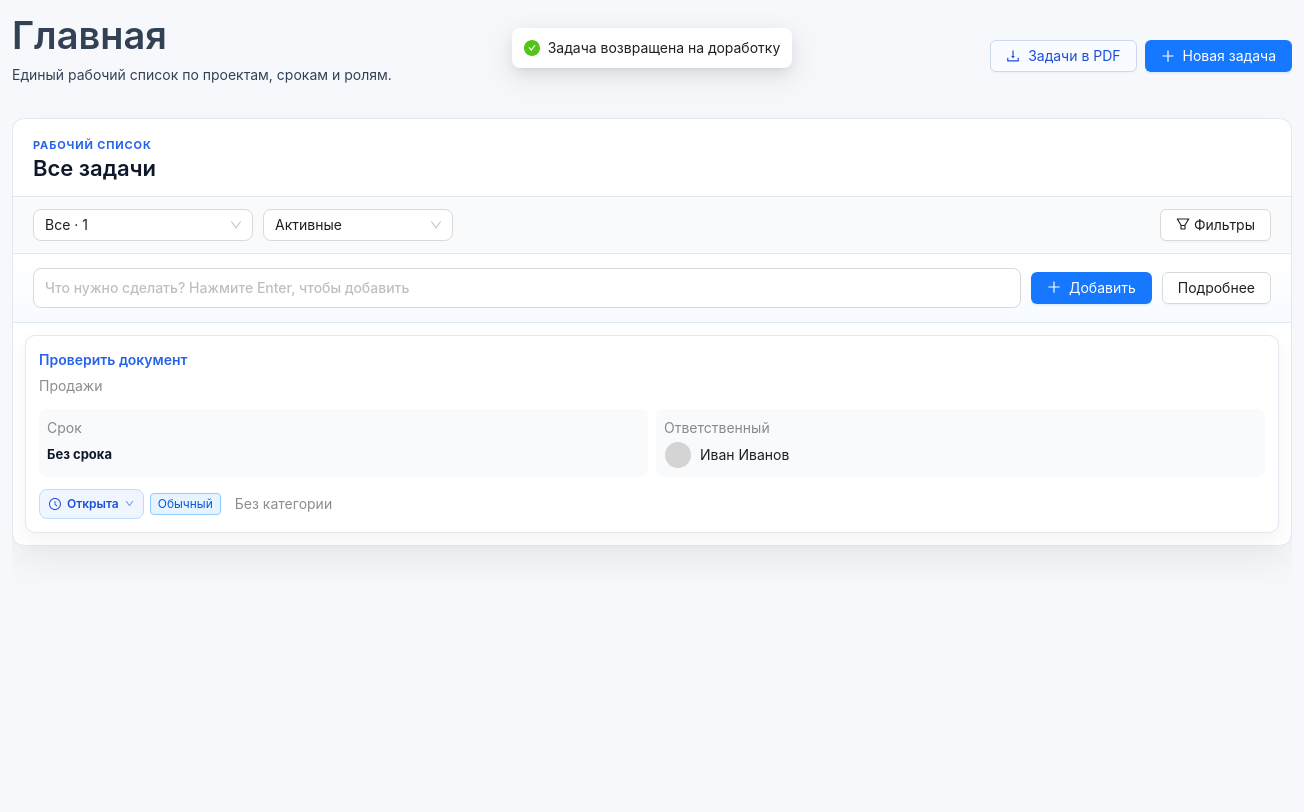
Test: mobile task row keeps the status control outside its navigation link
What coordinates should you click on to do the following:
click the button with aria-label "Статус задачи Проверить документ: Открыта"
I would click on:
 (91, 504)
Its box is [39,489,144,519].
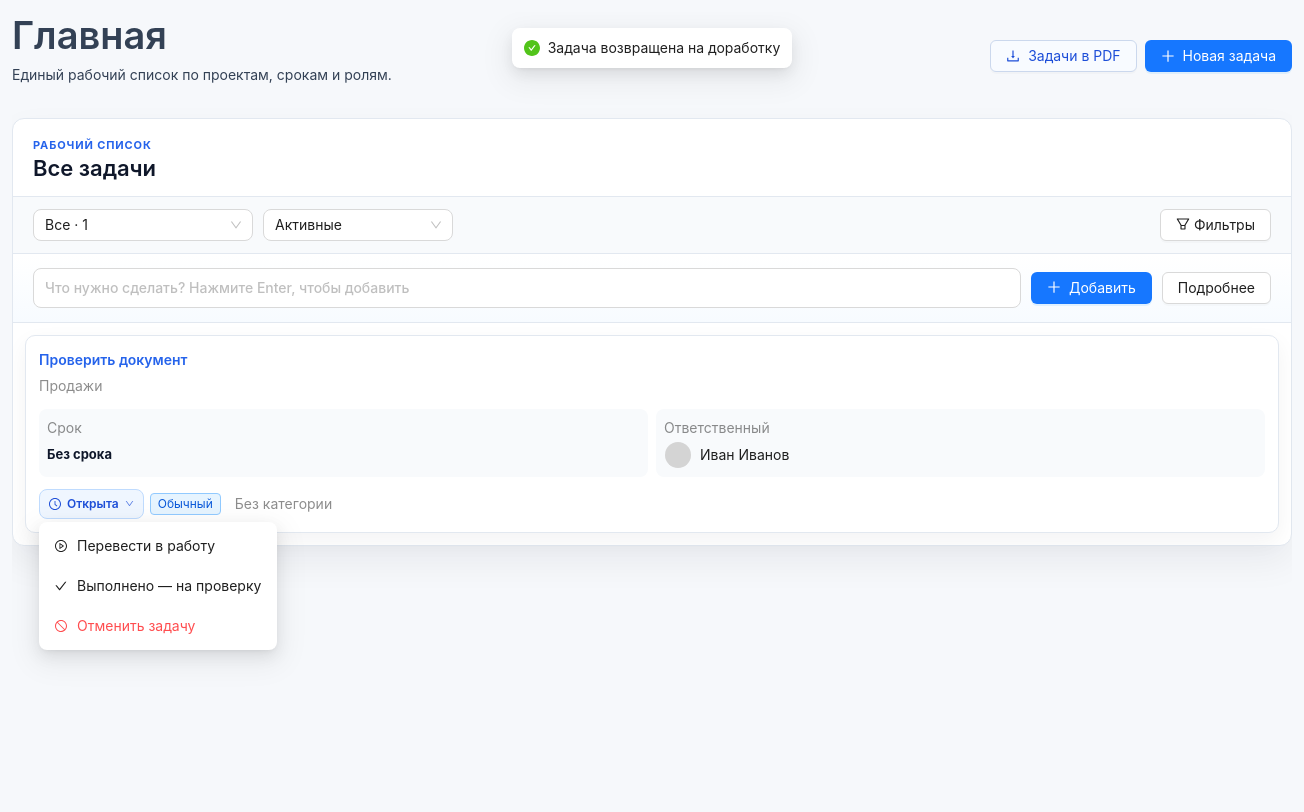
What coordinates should you click on to do the following:
click the menu item "Выполнено — на проверку"
I would click on:
 (158, 586)
Its box is [55,577,261,594].
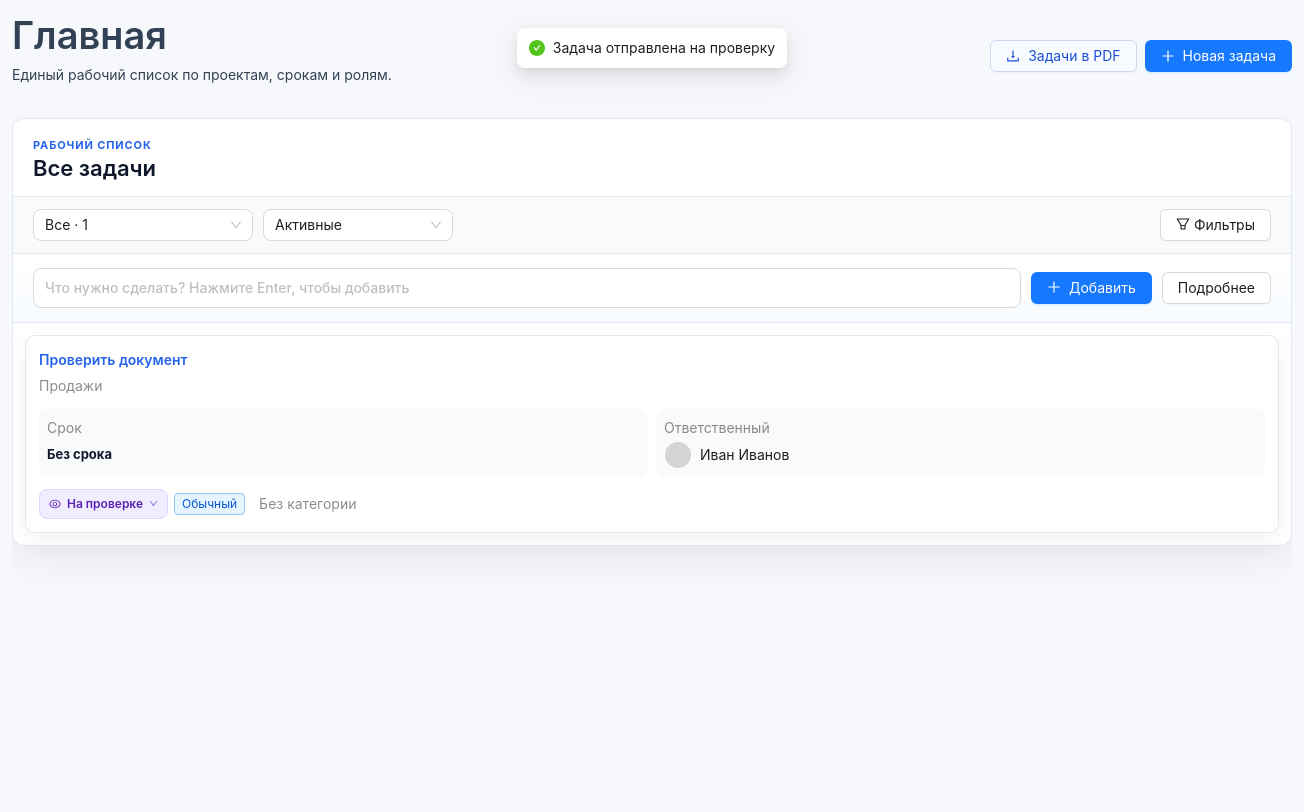
Expected: the text "На проверке" is shown, [67,496,143,511]
Expected: the button with aria-label "Статус задачи Проверить документ: На проверке" is shown, [39,489,168,519]
